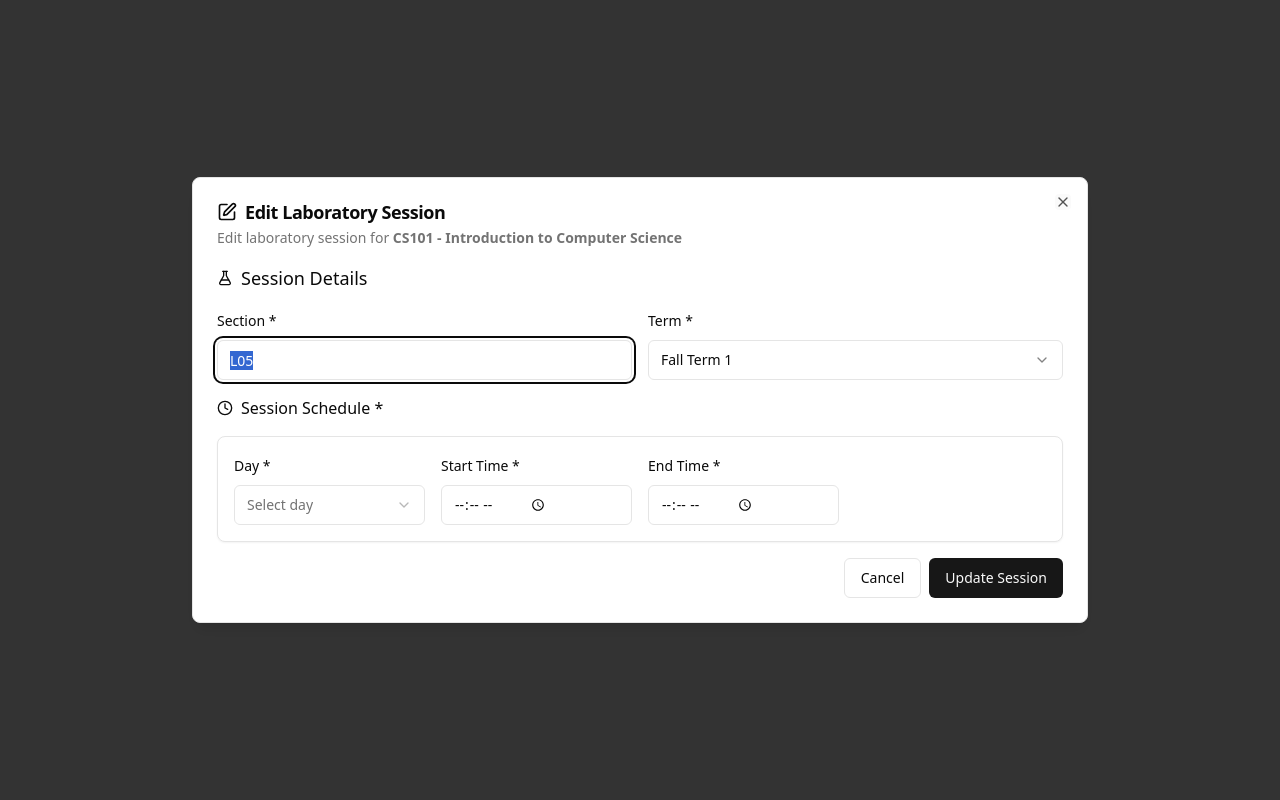
Test case: EditSessionModal › validates empty day field
Click the button "Update Session": click(996, 578) [929,558,1063,598]
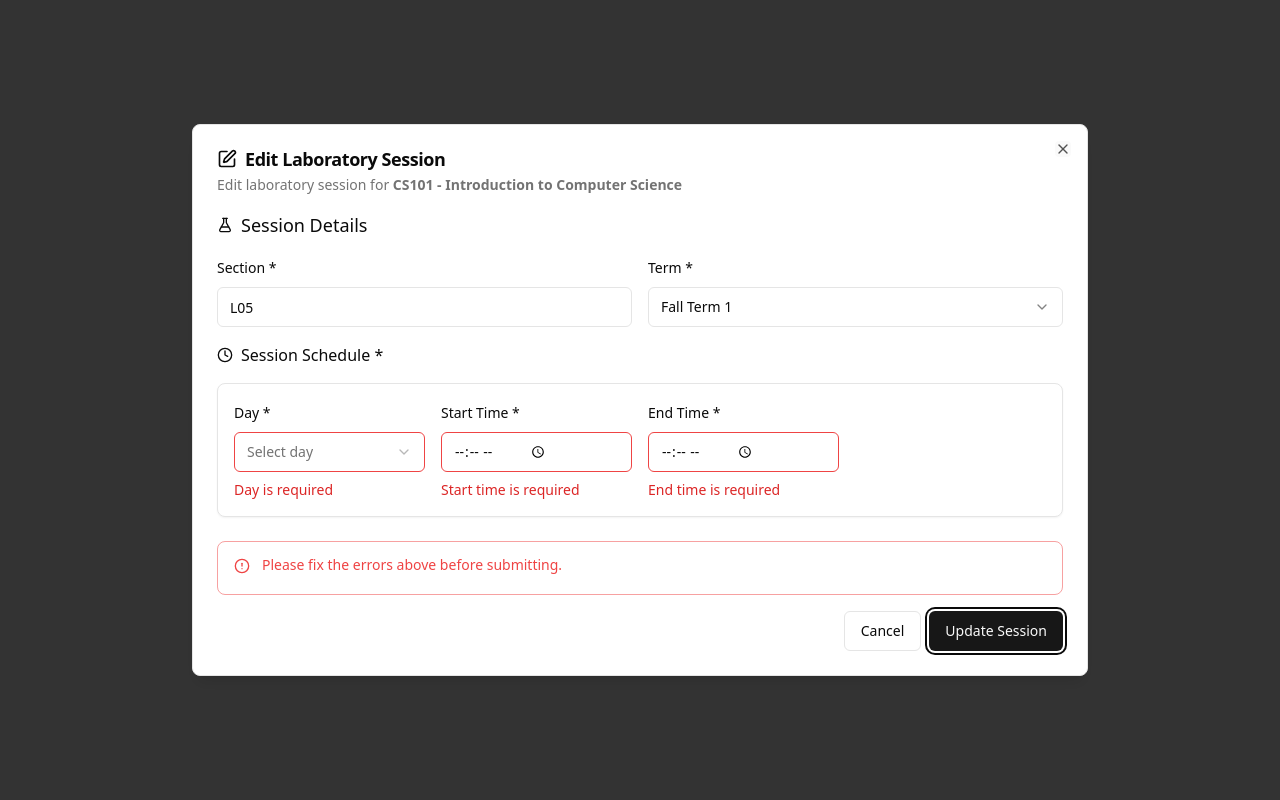
Expected: the text "Day is required" is shown, [234,480,333,499]
